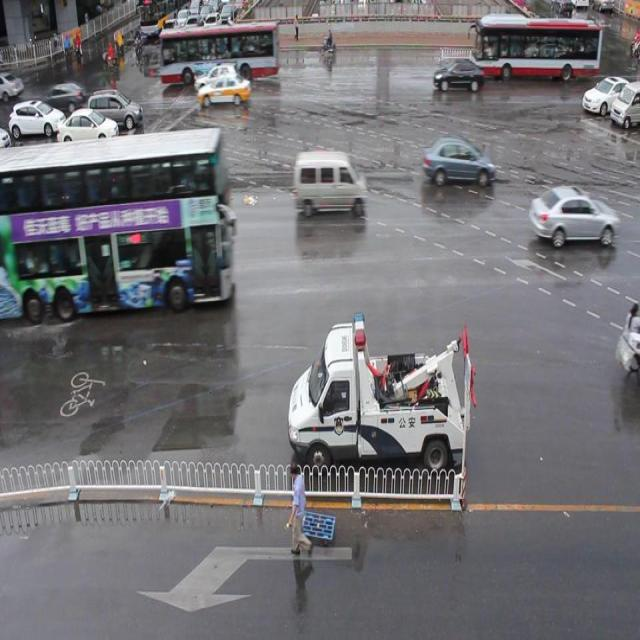car: (528, 184, 616, 246), (421, 135, 494, 189), (156, 160, 224, 210), (432, 59, 486, 94), (197, 74, 250, 105), (193, 62, 243, 94)
truck: (291, 150, 367, 216)
van: (1, 129, 235, 308), (474, 16, 600, 78), (158, 27, 278, 81)
